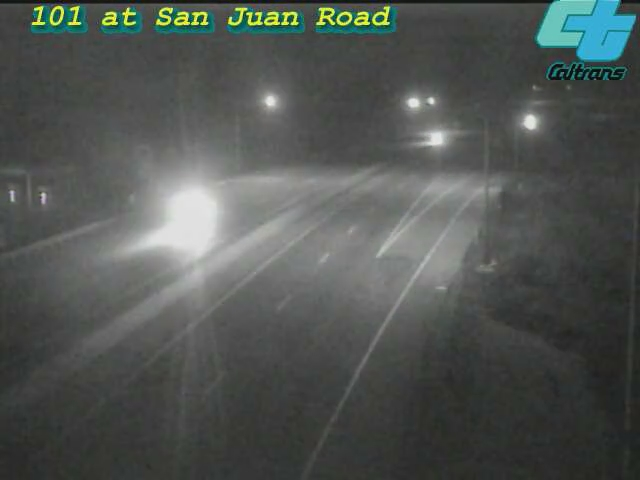vehicle: (144, 172, 224, 252), (411, 116, 461, 166), (505, 98, 555, 148)
